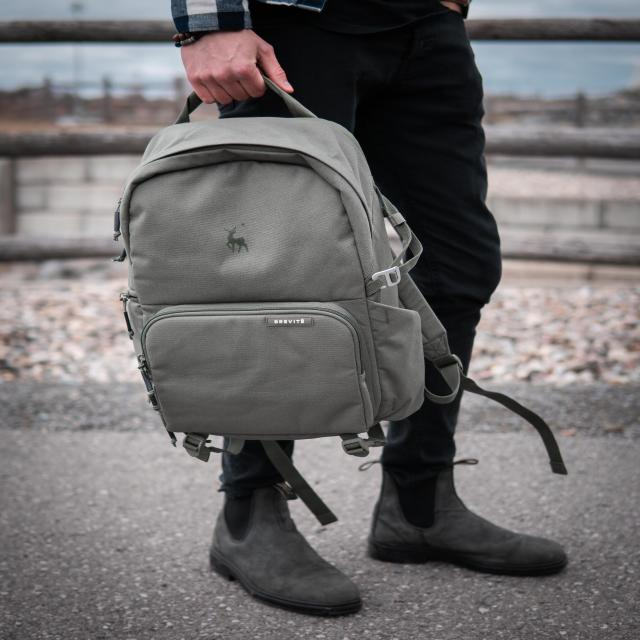backpack: (117, 71, 463, 456)
